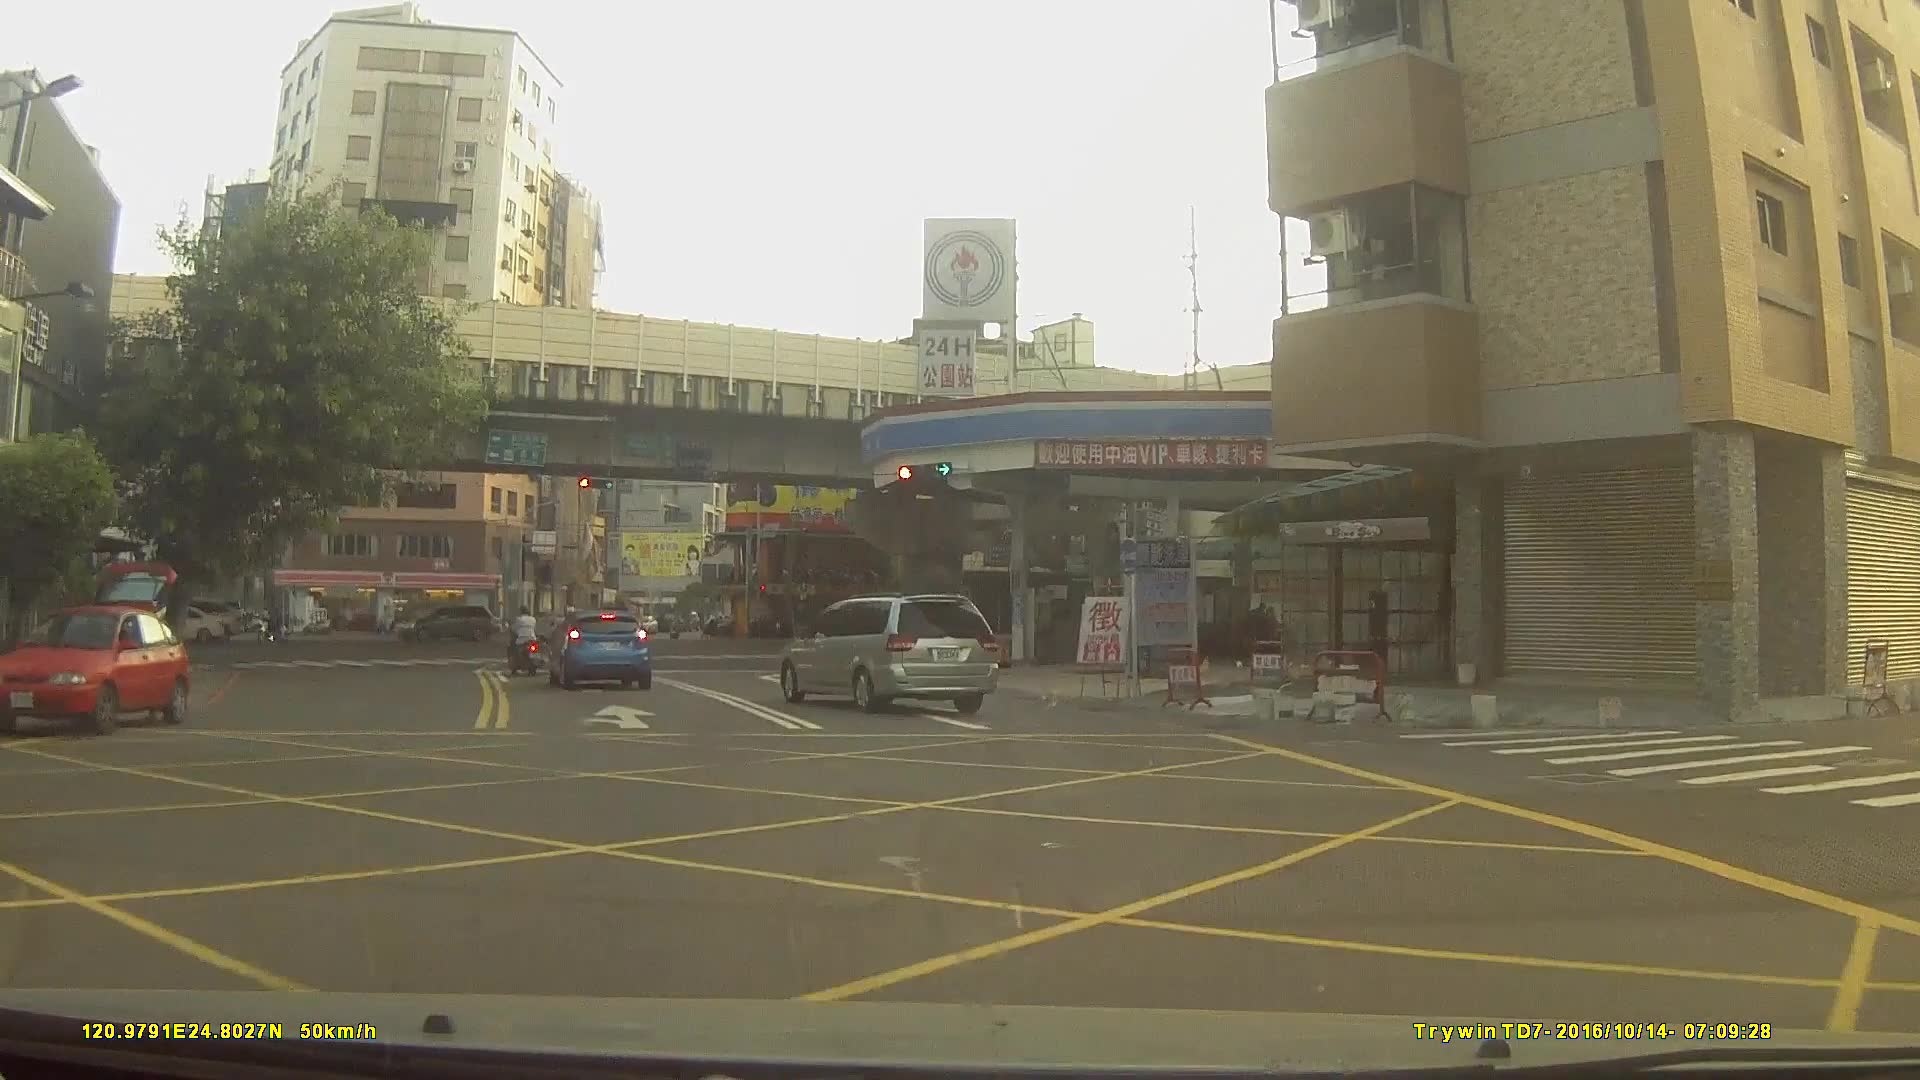rider: (507, 609, 544, 678), (259, 617, 288, 651)
vehicle: (782, 589, 1000, 712), (0, 604, 192, 738), (546, 612, 651, 693), (392, 603, 495, 642), (533, 604, 612, 641)
